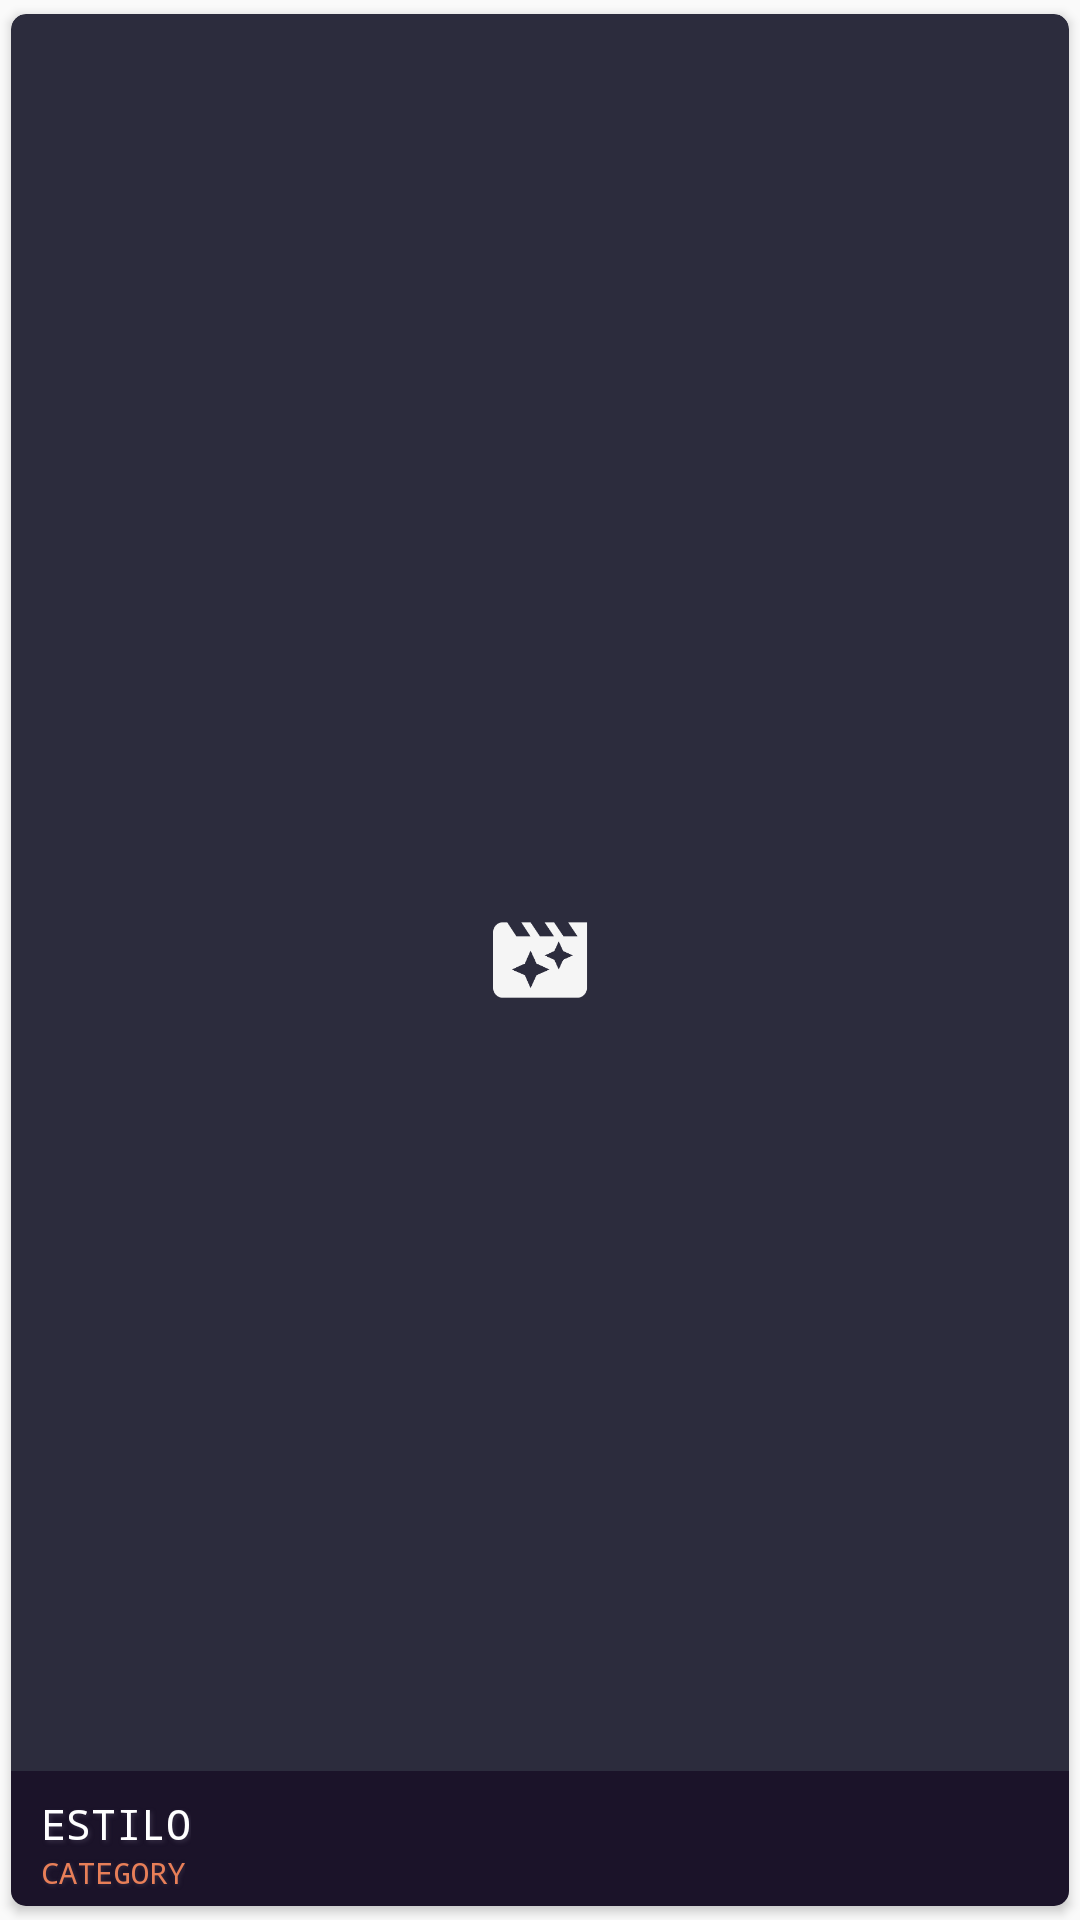

Icon click points for this 1080w x 1920h phone screenshot, format (x=x, y=y):
movie filter: (x=540, y=960)
